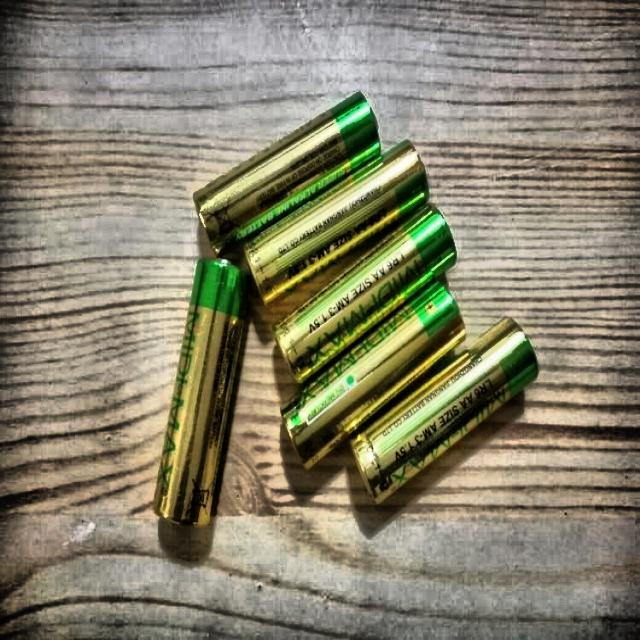Non-Valuable Waste - Batteries: (351, 318, 538, 503), (282, 281, 465, 469), (275, 205, 456, 383), (194, 93, 380, 252), (245, 142, 429, 302), (155, 258, 246, 524)
